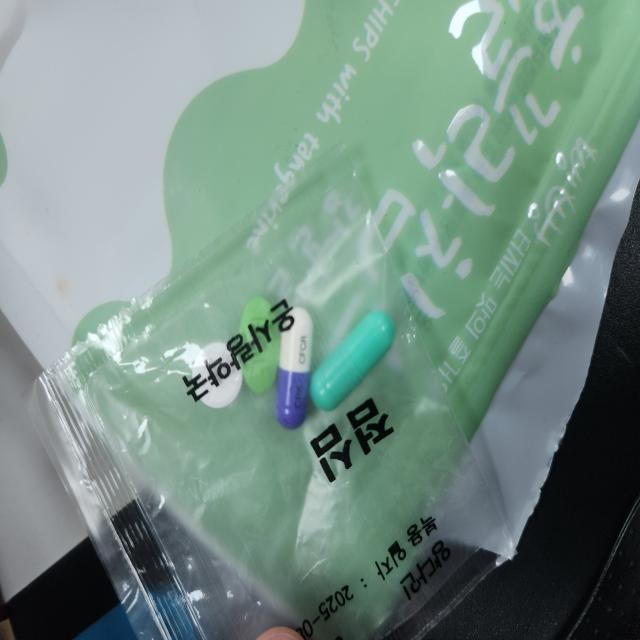러키펜정: (192, 343, 242, 409)
씨엠지세파클러캡슐: (274, 309, 314, 431)
에르도캡슐: (310, 313, 398, 414)
휴티렌정: (239, 297, 278, 396)
